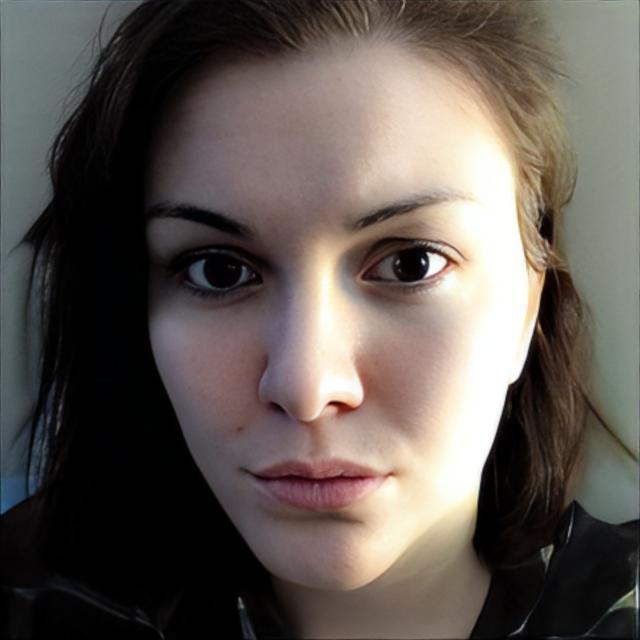neutral: (141, 39, 530, 588)
